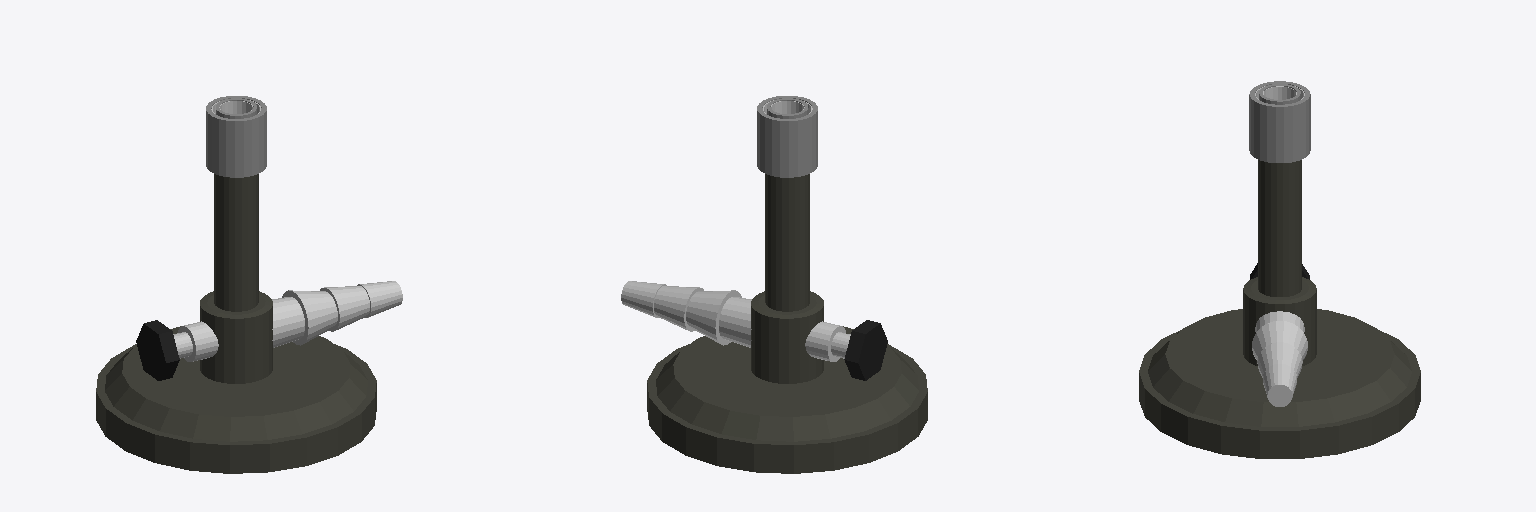
The model's file is gasbrander.obj.
3 views of the same model, side by side, from view 1: azimuth 30°, elevation 25°; view 2: azimuth 150°, elevation 25°; view 3: azimuth 270°, elevation 25° (orthographic).
Parts seen in each view (by area): view 1: Circle_Circle.002, Circle.002_Circle.004, Circle.003_Circle.005, Cylinder.024_Cylinder.026, Circle.001_Circle.003; view 2: Circle_Circle.002, Circle.002_Circle.004, Circle.003_Circle.005, Cylinder.024_Cylinder.026, Circle.001_Circle.003; view 3: Circle_Circle.002, Circle.003_Circle.005, Circle.002_Circle.004.
Part boxes in pixels (left/top/right/bottom): Circle_Circle.002: left=96, top=174, right=376, bottom=473; Circle.002_Circle.004: left=272, top=281, right=402, bottom=347; Circle.003_Circle.005: left=206, top=96, right=266, bottom=177; Cylinder.024_Cylinder.026: left=136, top=320, right=179, bottom=380; Circle.001_Circle.003: left=173, top=100, right=260, bottom=361; Circle_Circle.002: left=647, top=174, right=927, bottom=473; Circle.002_Circle.004: left=621, top=281, right=751, bottom=347; Circle.003_Circle.005: left=757, top=96, right=817, bottom=177; Cylinder.024_Cylinder.026: left=844, top=320, right=887, bottom=380; Circle.001_Circle.003: left=763, top=100, right=850, bottom=361; Circle_Circle.002: left=1139, top=160, right=1420, bottom=458; Circle.003_Circle.005: left=1249, top=81, right=1310, bottom=162; Circle.002_Circle.004: left=1252, top=311, right=1307, bottom=406.
Bounding box in the file's own units: 0.4347 × 0.4547 × 0.378.